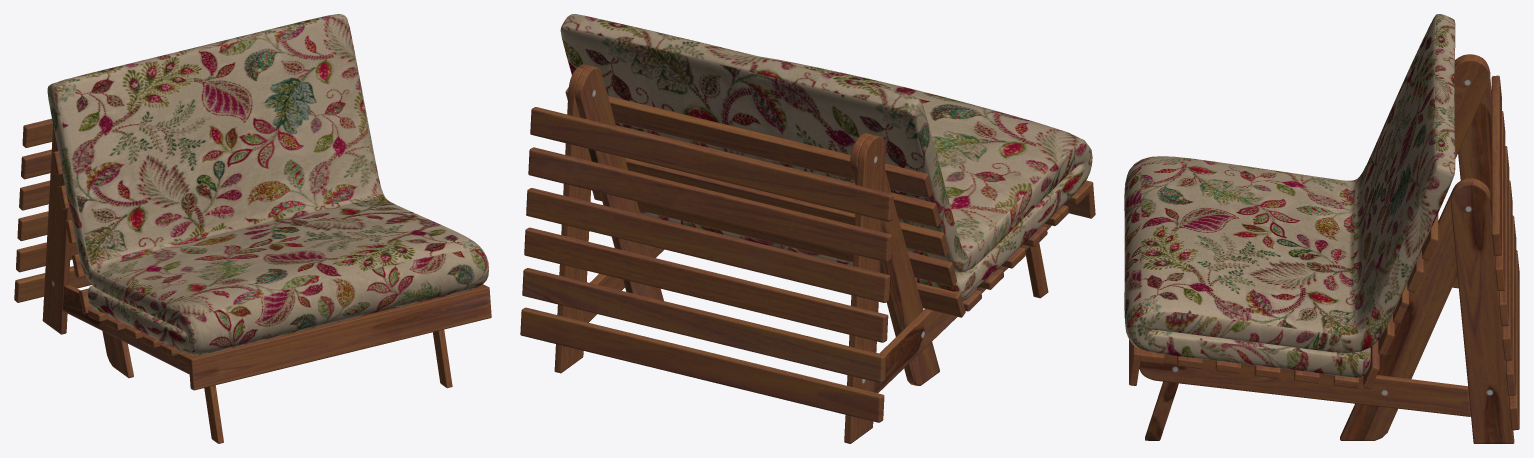
File: JoviSingleFuton.glb
The picture shows the model from 3 angles, left to right: view 1: azimuth 30°, elevation 25°; view 2: azimuth 150°, elevation 25°; view 3: azimuth 270°, elevation 25°; orthographic projection. The views are drawn at different scales.
Parts seen in each view (by area): view 1: polySurface1.002.1, polySurface1.002.0; view 2: polySurface1.002.0, polySurface1.002.1; view 3: polySurface1.002.1, polySurface1.002.0.
Boxes of the visible parts, box(x1,y1,x2,y2) form: polySurface1.002.1: box(47, 14, 488, 355); polySurface1.002.0: box(14, 118, 491, 443); polySurface1.002.0: box(520, 64, 1095, 443); polySurface1.002.1: box(560, 14, 1092, 300); polySurface1.002.1: box(1124, 14, 1455, 377); polySurface1.002.0: box(1129, 54, 1519, 443).
Bounding box in the file's own units: 0.9144 × 0.7869 × 0.9664.
2 materials, 2 textured.
